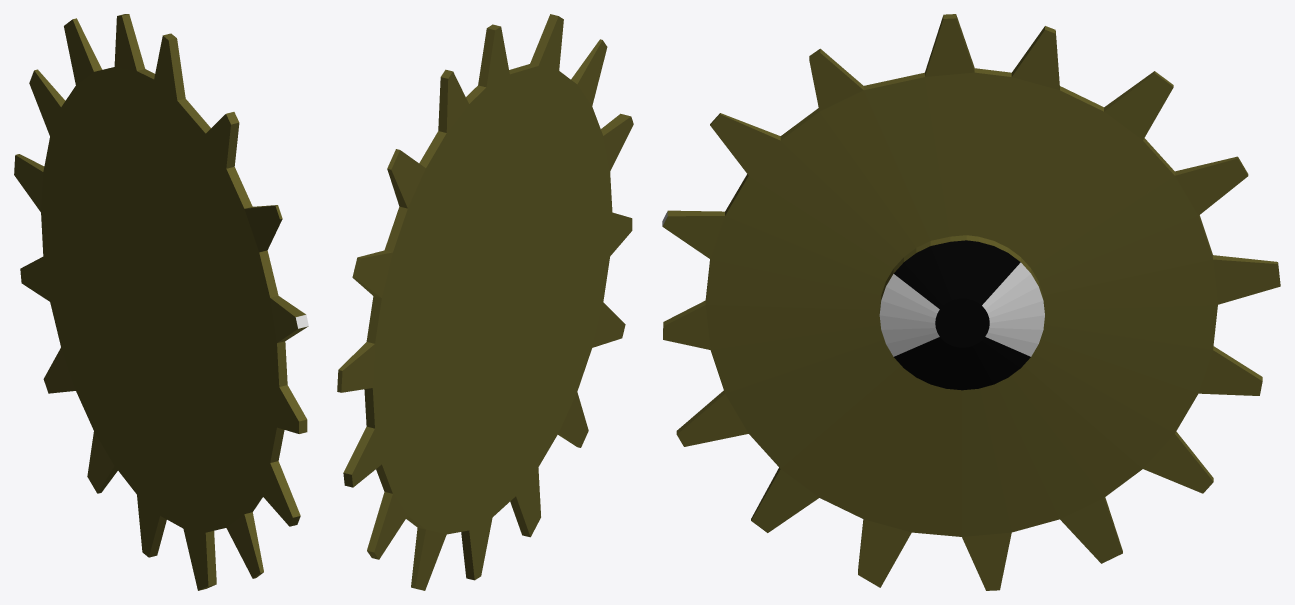
File: gear_dev.fbx
The picture shows the model from 3 angles, left to right: view 1: azimuth 30°, elevation 25°; view 2: azimuth 150°, elevation 25°; view 3: azimuth 270°, elevation 25°; orthographic projection. The views are drawn at different scales.
Parts seen in each view (by area): view 1: Cylinder; view 2: Cylinder; view 3: Cylinder.
Part boxes in pixels (left/top/right/bottom): Cylinder: left=14, top=14, right=308, bottom=590; Cylinder: left=337, top=14, right=633, bottom=590; Cylinder: left=662, top=14, right=1280, bottom=590.
Size of the model in its own units: 0.2154 by 2.47 by 2.41.
